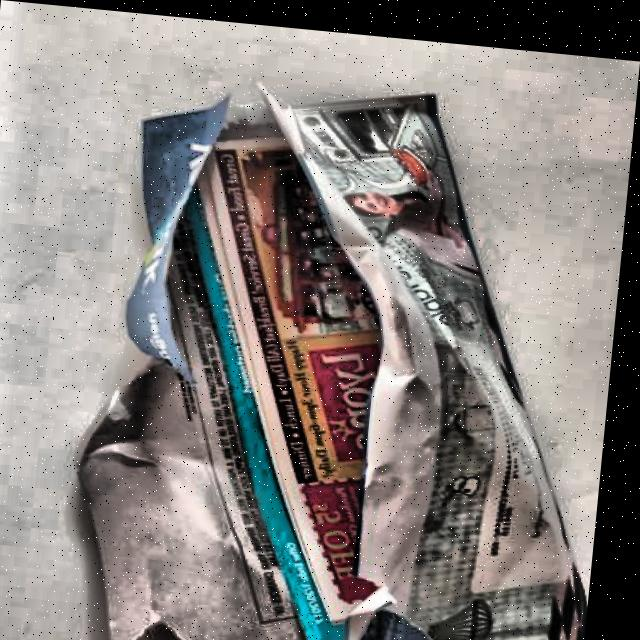paper: (52, 61, 635, 640)
